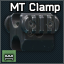M870 Mesa Tactical magazine clamp: (0, 0, 64, 64)
